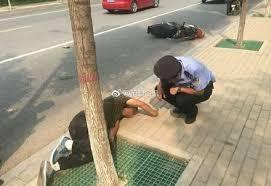Fall-Detected: (45, 84, 159, 178)
